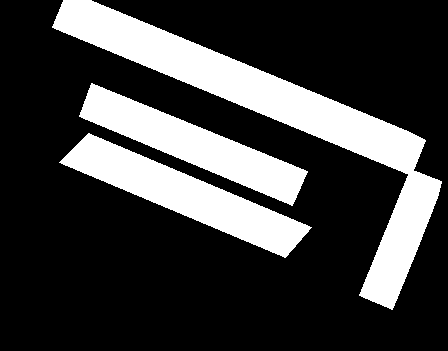parkingspot: (52, 0, 425, 175), (59, 133, 311, 257), (79, 83, 307, 205), (359, 169, 441, 309)
